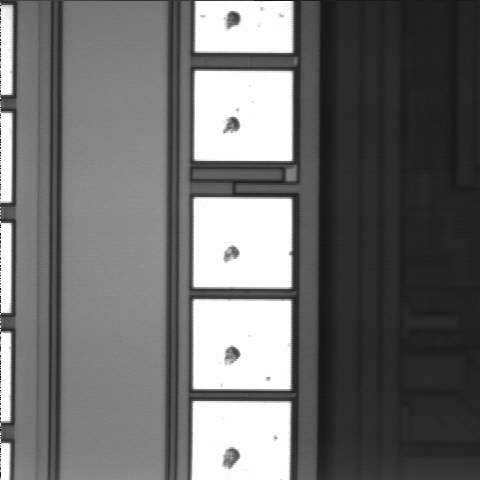pad: (194, 197, 292, 288), (194, 71, 292, 161), (193, 299, 291, 389)
